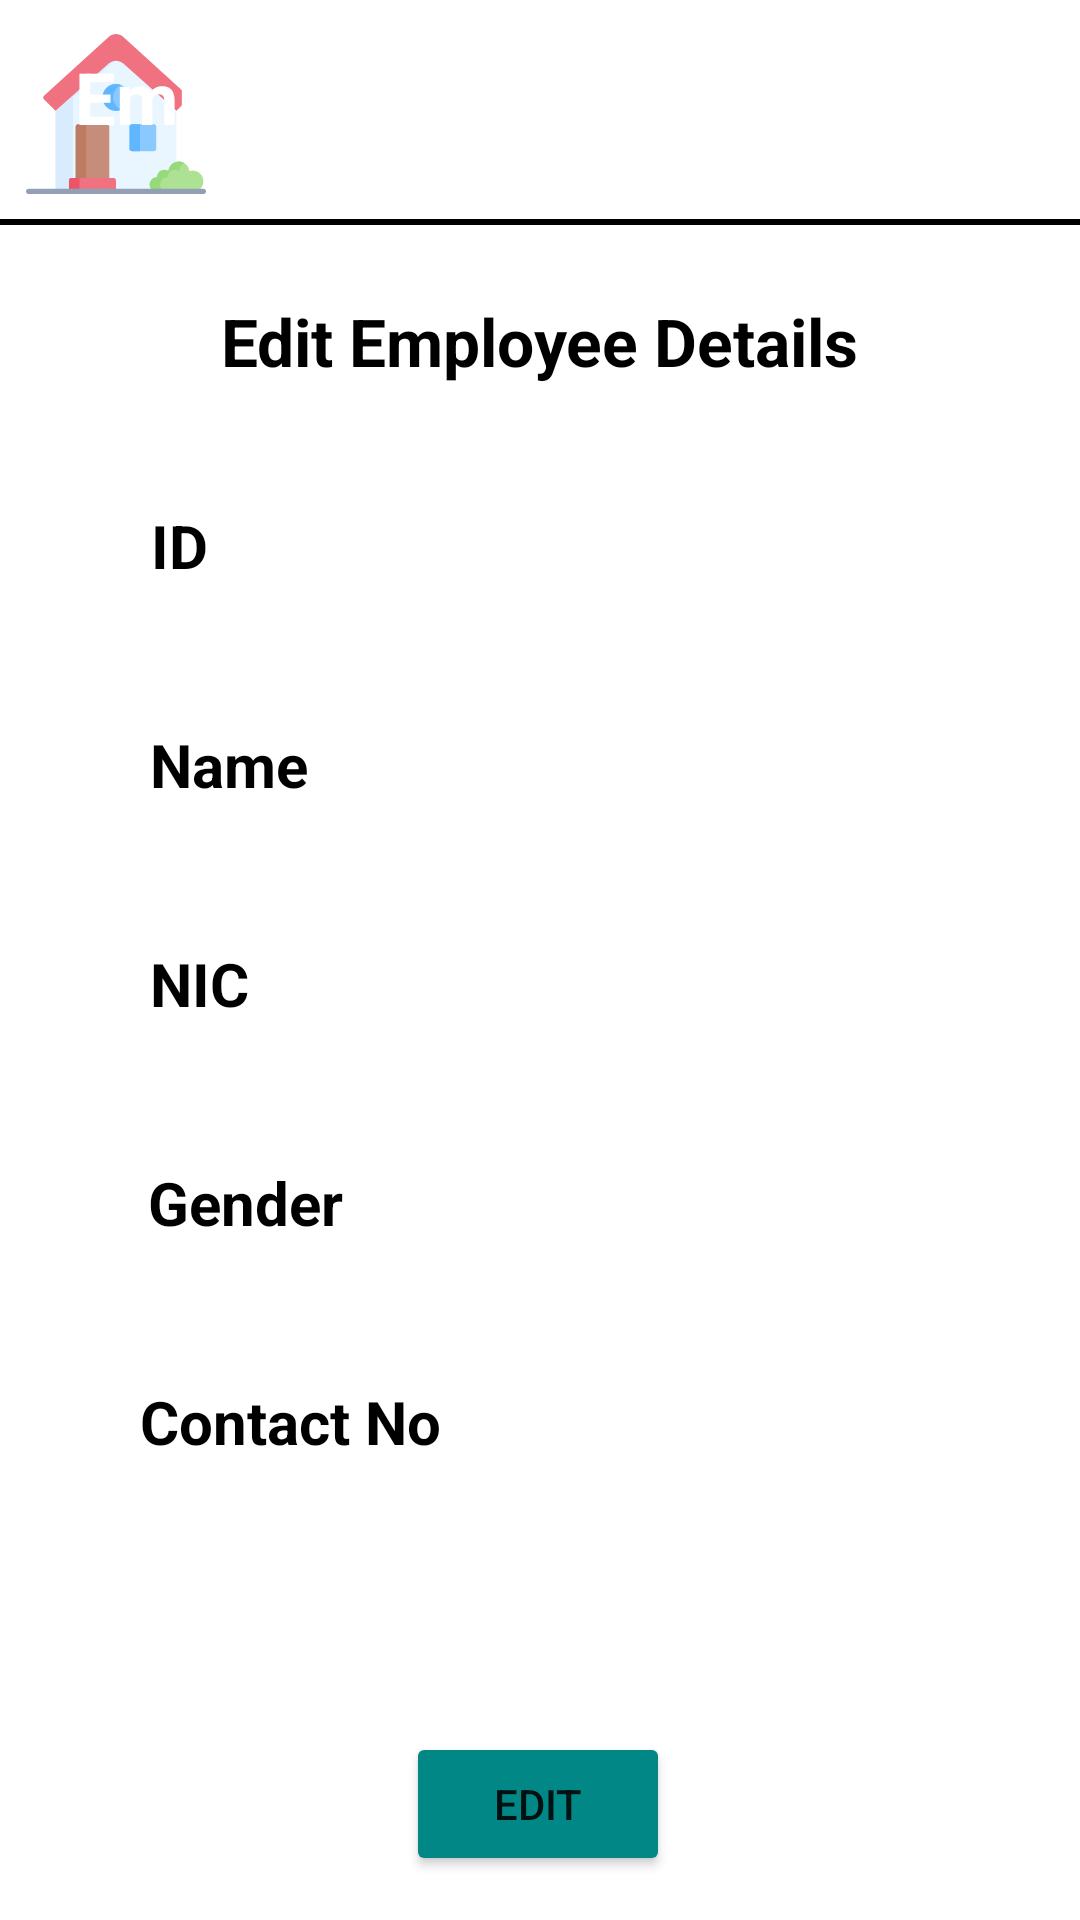

Where icons sit on this 1080px×1920px app screen, as (x1, y1, x2, y2):
home: (26, 34, 206, 194)
